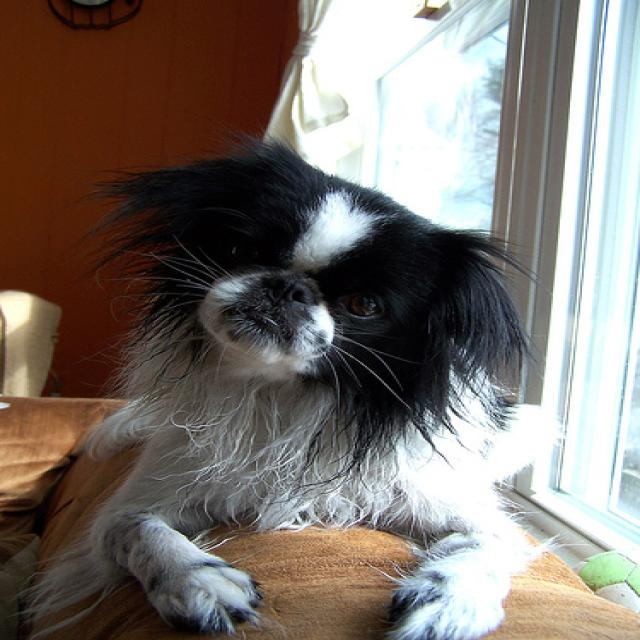dog: (164, 152, 512, 374)
